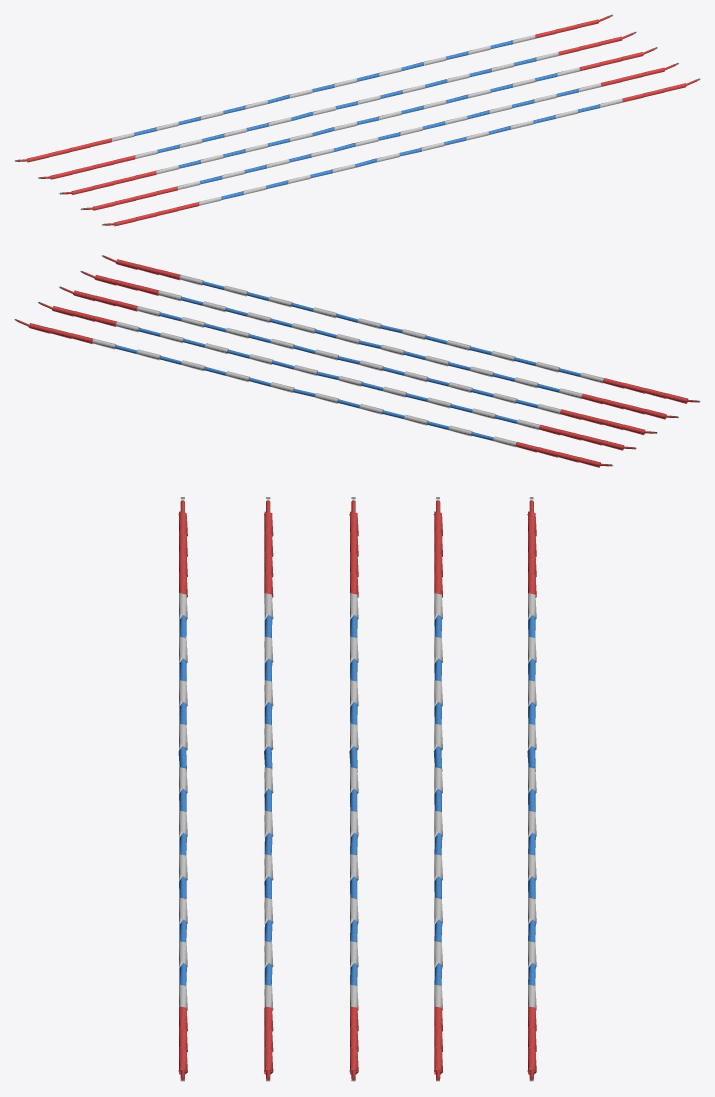
The model's file is Rope.fbx.
The picture shows the model from 3 angles, top to bottom: view 1: azimuth 30°, elevation 25°; view 2: azimuth 150°, elevation 25°; view 3: azimuth 270°, elevation 25°; orthographic projection. The views are drawn at different scales.
Visible parts, largest first — view 1: Rope; view 2: Rope; view 3: Rope.
Part boxes in pixels (bbox=[...]): Rope: bbox=[14, 14, 700, 226]; Rope: bbox=[14, 255, 700, 467]; Rope: bbox=[178, 497, 536, 1081].
Size of the model in its own units: 2687 by 25.88 by 697.
